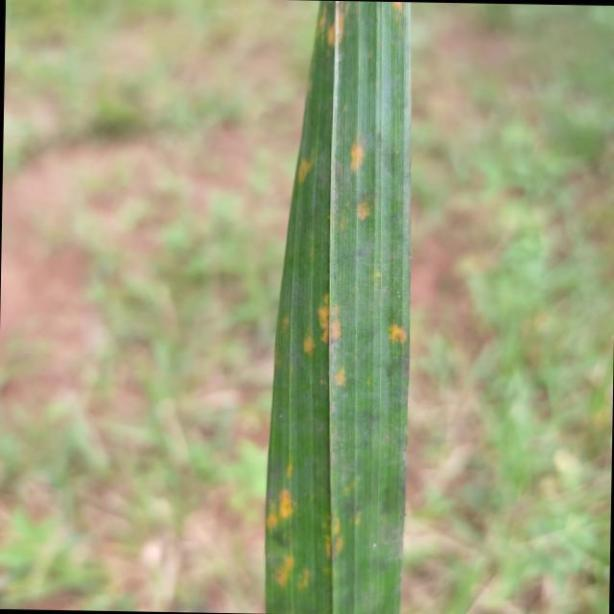Kalium: (264, 0, 412, 614)
